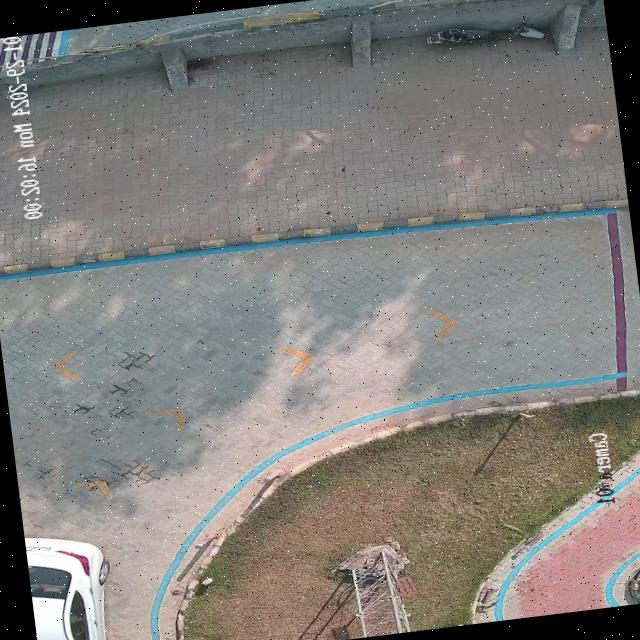car: (25, 537, 106, 640)
